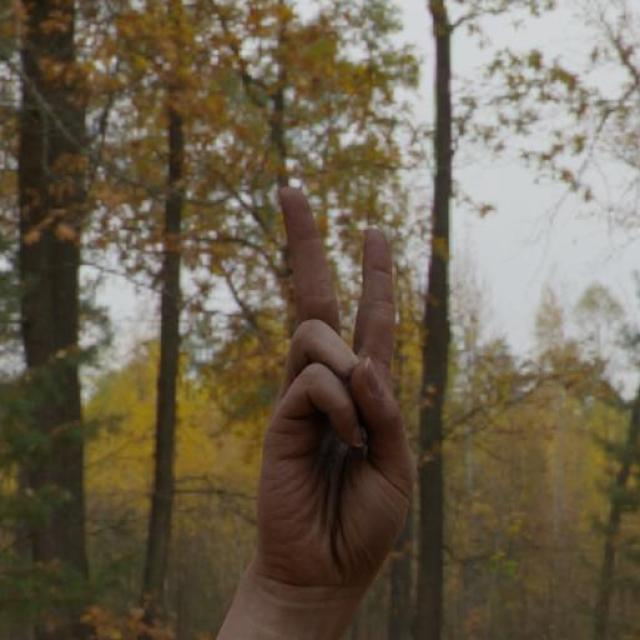V: (249, 183, 418, 592)
